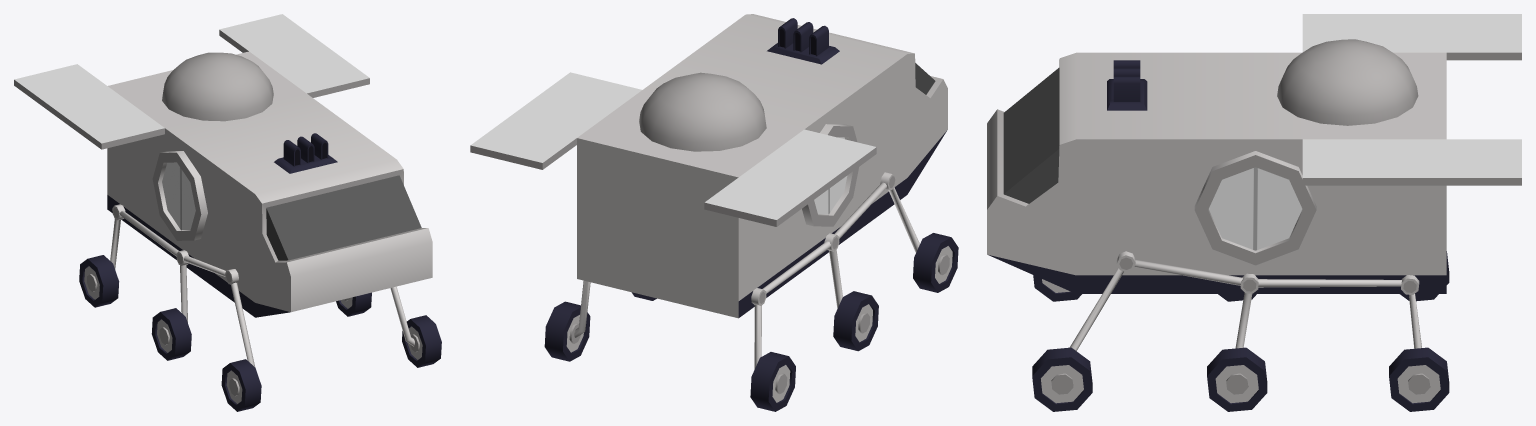
File: solartransport.fbx
The picture shows the model from 3 angles, left to right: view 1: azimuth 30°, elevation 25°; view 2: azimuth 150°, elevation 25°; view 3: azimuth 270°, elevation 25°; orthographic projection. The views are drawn at different scales.
Visible parts, largest first — view 1: solartransport; view 2: solartransport; view 3: solartransport.
Part boxes in pixels (x1=…): solartransport: x1=14, y1=14, x2=441, y2=411; solartransport: x1=470, y1=14, x2=958, y2=411; solartransport: x1=987, y1=14, x2=1521, y2=411.
Bounding box in the file's own units: 4.61 × 4 × 6.35.
